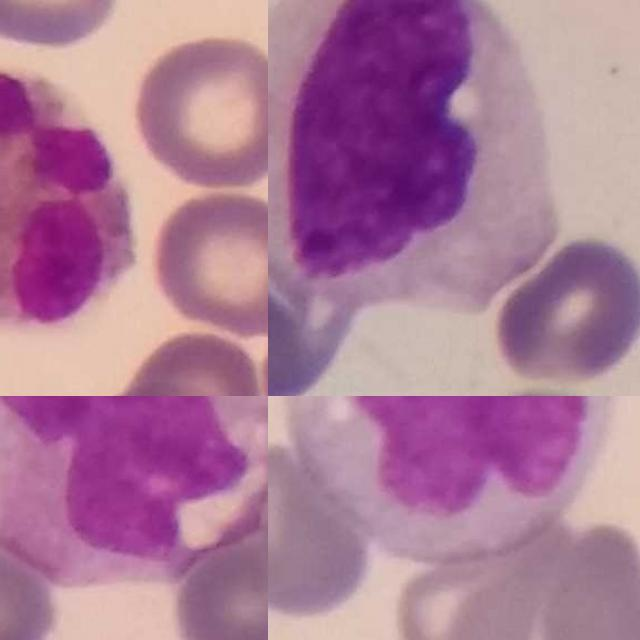Eosinophil: (0, 62, 143, 329)
Monocyte: (268, 0, 555, 316), (285, 396, 624, 565), (0, 396, 268, 586)
